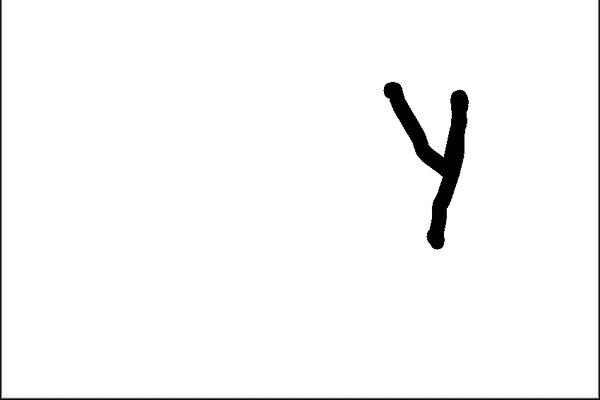Y: (370, 63, 485, 255)
